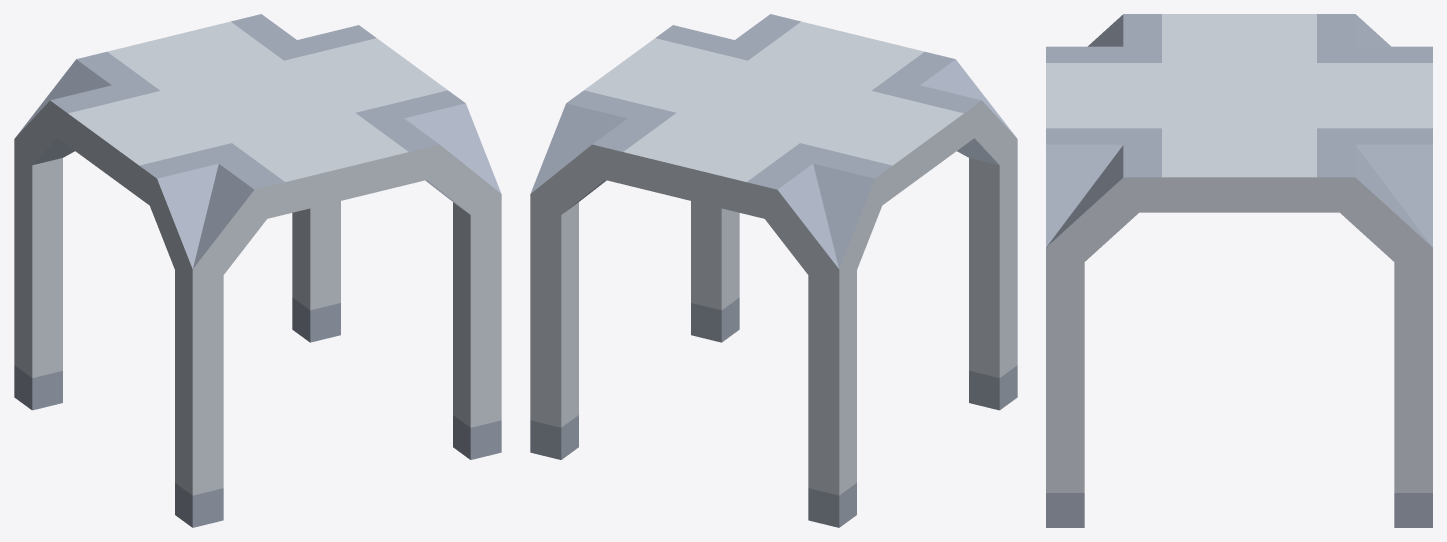
The model's file is corridor_cross.dae.
The picture shows the model from 3 angles, left to right: view 1: azimuth 30°, elevation 25°; view 2: azimuth 150°, elevation 25°; view 3: azimuth 270°, elevation 25°; orthographic projection. The views are drawn at different scales.
Parts seen in each view (by area): view 1: corridor_cross; view 2: corridor_cross; view 3: corridor_cross.
Boxes of the visible parts, <box> form: corridor_cross: <box>14,14,501,527</box>; corridor_cross: <box>530,14,1017,527</box>; corridor_cross: <box>1046,14,1432,527</box>.
Bounding box in the file's own units: 1 × 1 × 1.
